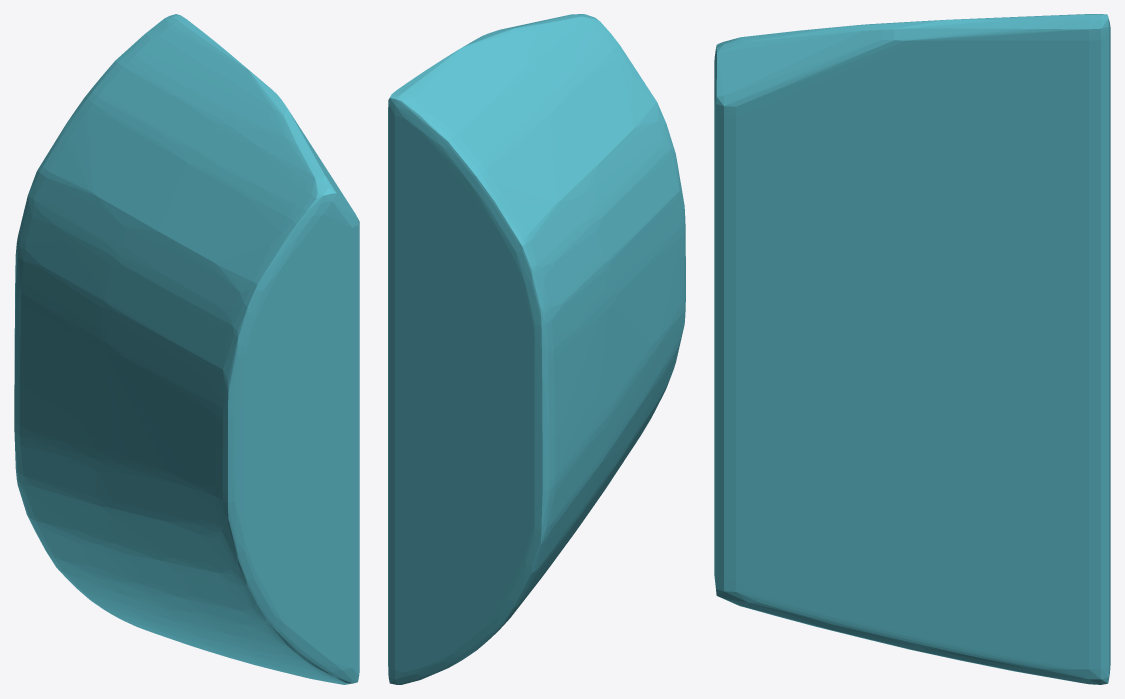
The model's file is right_f_distal_pst_part_2.obj.
3 renders of one model, left to right at view 1: azimuth 30°, elevation 25°; view 2: azimuth 150°, elevation 25°; view 3: azimuth 270°, elevation 25°, orthographic. The views are drawn at different scales.
Bounding box in the file's own units: 3.81 × 13.11 × 7.07.
